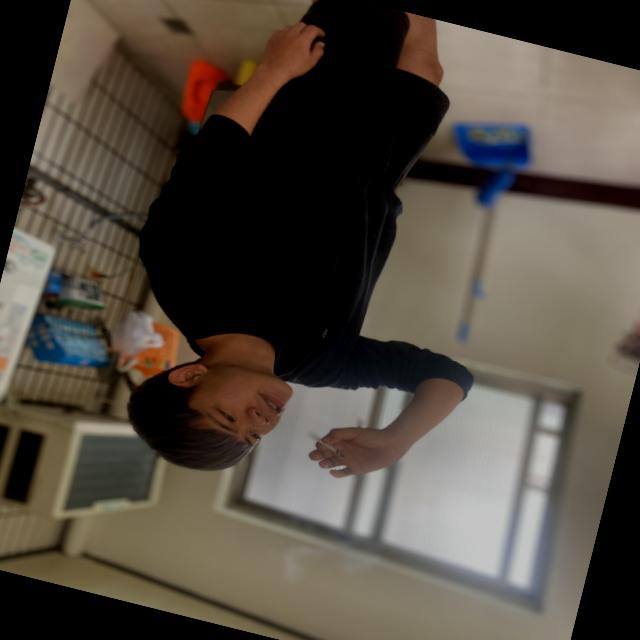smoke: (299, 421, 348, 461)
